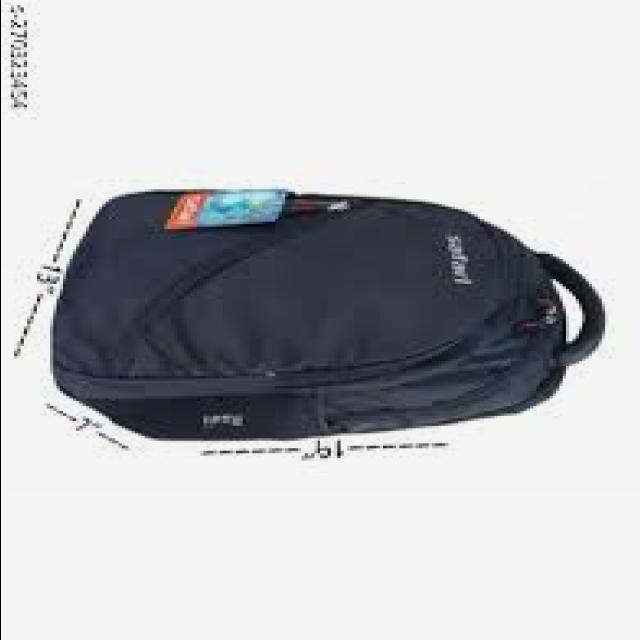backpack: (54, 188, 609, 444)
